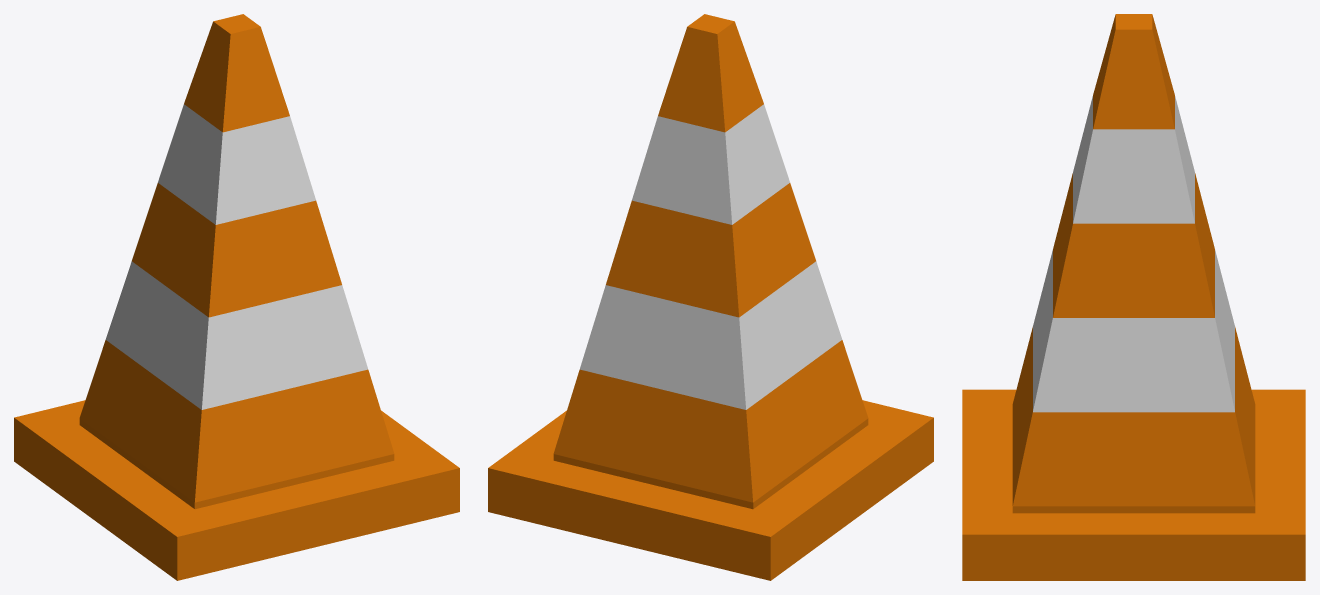
File: trafficCone.glb
The picture shows the model from 3 angles, left to right: view 1: azimuth 30°, elevation 25°; view 2: azimuth 150°, elevation 25°; view 3: azimuth 270°, elevation 25°; orthographic projection. The views are drawn at different scales.
Visible parts, largest first — view 1: TrafficCone; view 2: TrafficCone; view 3: TrafficCone.
Part boxes in pixels (box(x1,y1,x2,y2)): TrafficCone: box(14, 14, 459, 580); TrafficCone: box(488, 14, 933, 580); TrafficCone: box(962, 14, 1305, 580).
Size of what is drawn, in the model's own units: 0.65 by 1.02 by 0.65.
